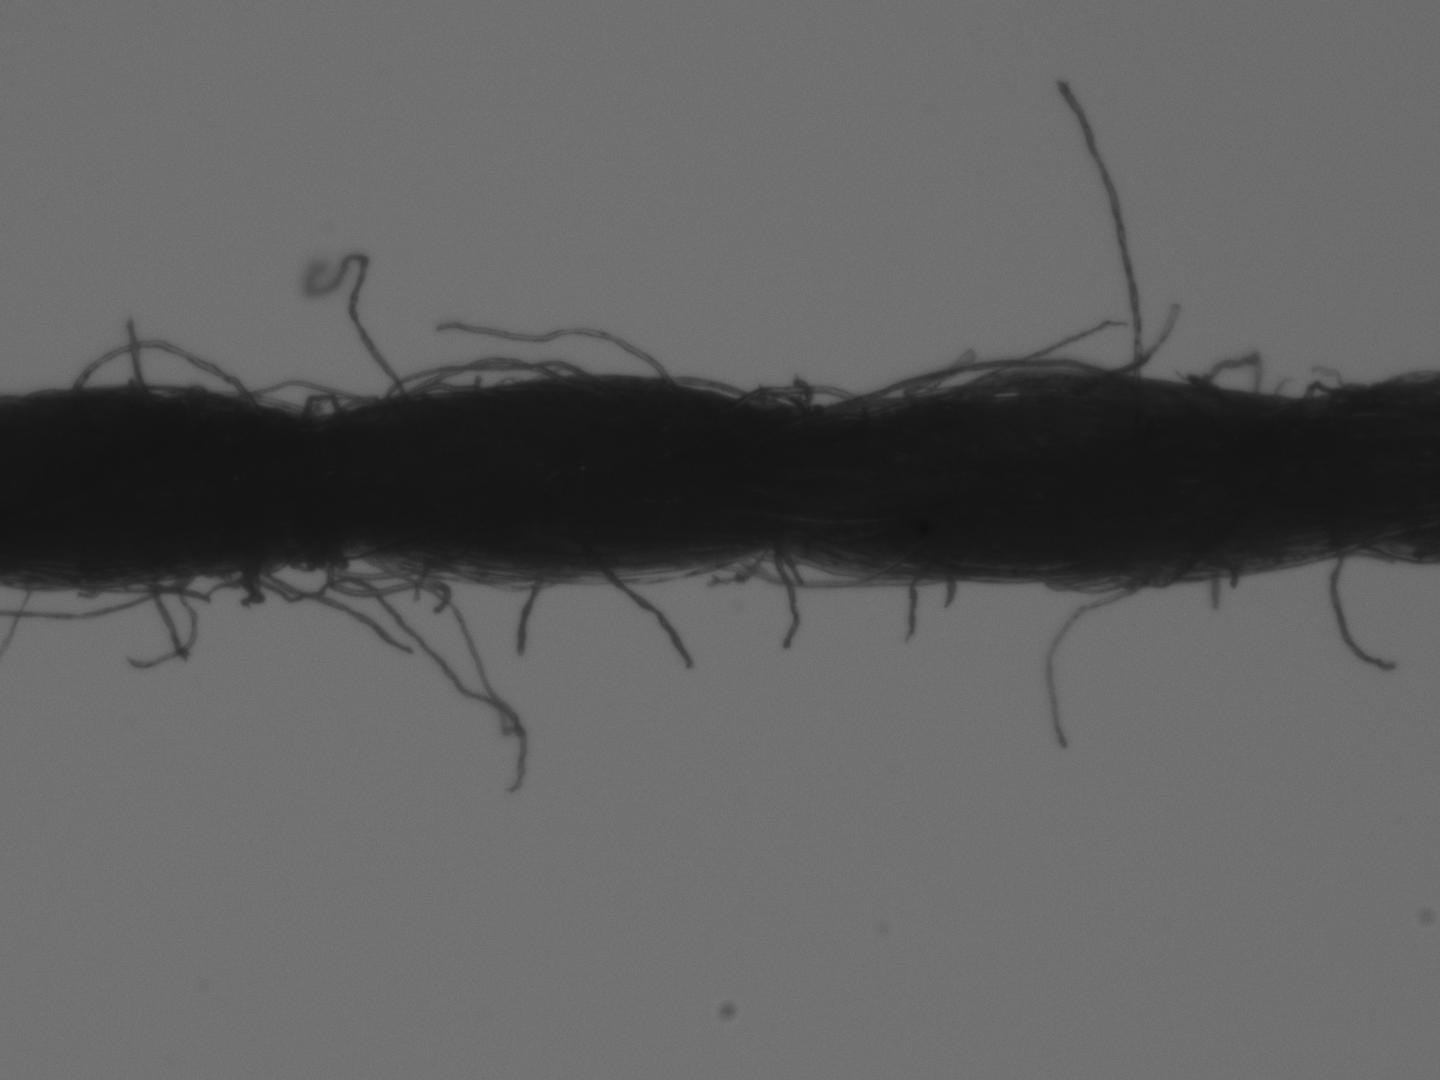loop_fiber: (61, 549, 353, 613), (831, 353, 1116, 411), (69, 336, 254, 408), (376, 354, 593, 406), (722, 376, 893, 422), (732, 549, 909, 591), (1172, 343, 1267, 404), (1032, 573, 1142, 600), (295, 383, 346, 417), (1296, 377, 1342, 399)
protruding_fiber: (1044, 70, 1147, 388), (595, 563, 705, 685), (1325, 535, 1399, 676)
